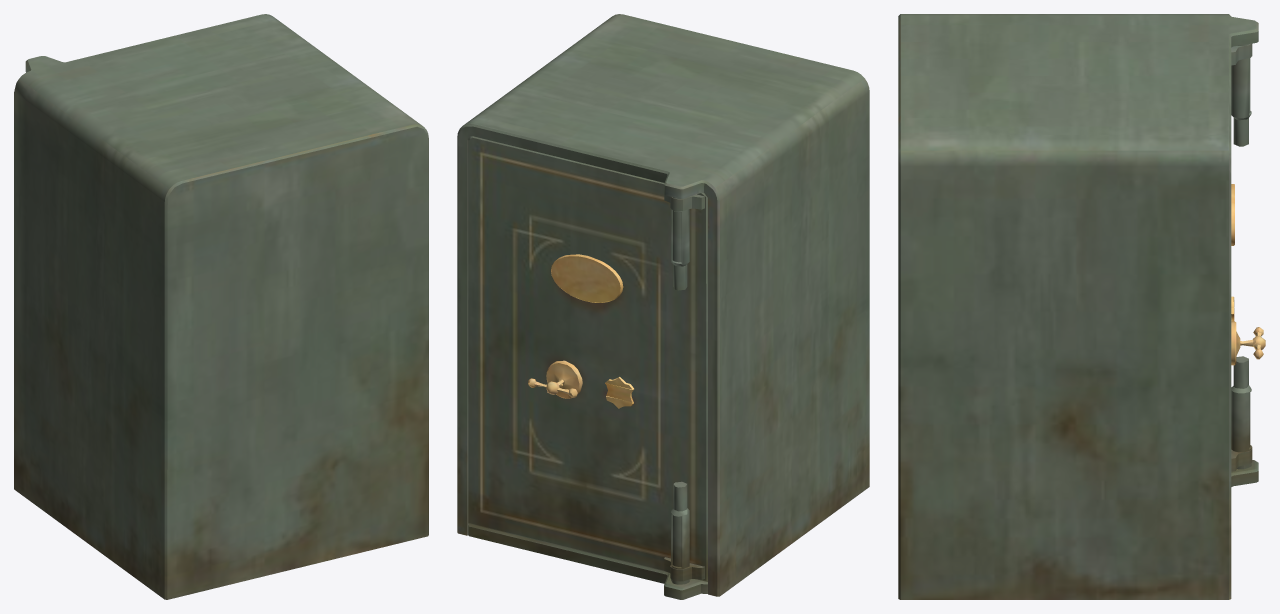
The model's file is safe-office.glb.
The picture shows the model from 3 angles, left to right: view 1: azimuth 30°, elevation 25°; view 2: azimuth 150°, elevation 25°; view 3: azimuth 270°, elevation 25°; orthographic projection. The views are drawn at different scales.
Parts seen in each view (by area): view 1: safe-office; view 2: safe-office; view 3: safe-office.
Boxes of the visible parts, box(x1,y1,x2,y2) form: safe-office: box(14, 14, 428, 599); safe-office: box(457, 14, 869, 599); safe-office: box(898, 14, 1265, 599).
Size of the model in its own units: 0.6233 by 0.9349 by 0.6876.
Materials: 1 (1 with a texture image).
